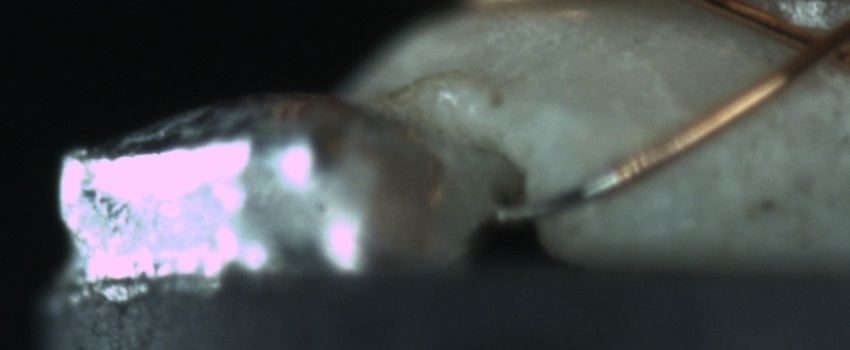CL: (782, 15, 846, 75)
TS: (489, 167, 619, 227)
TTCW: (491, 142, 659, 227)
